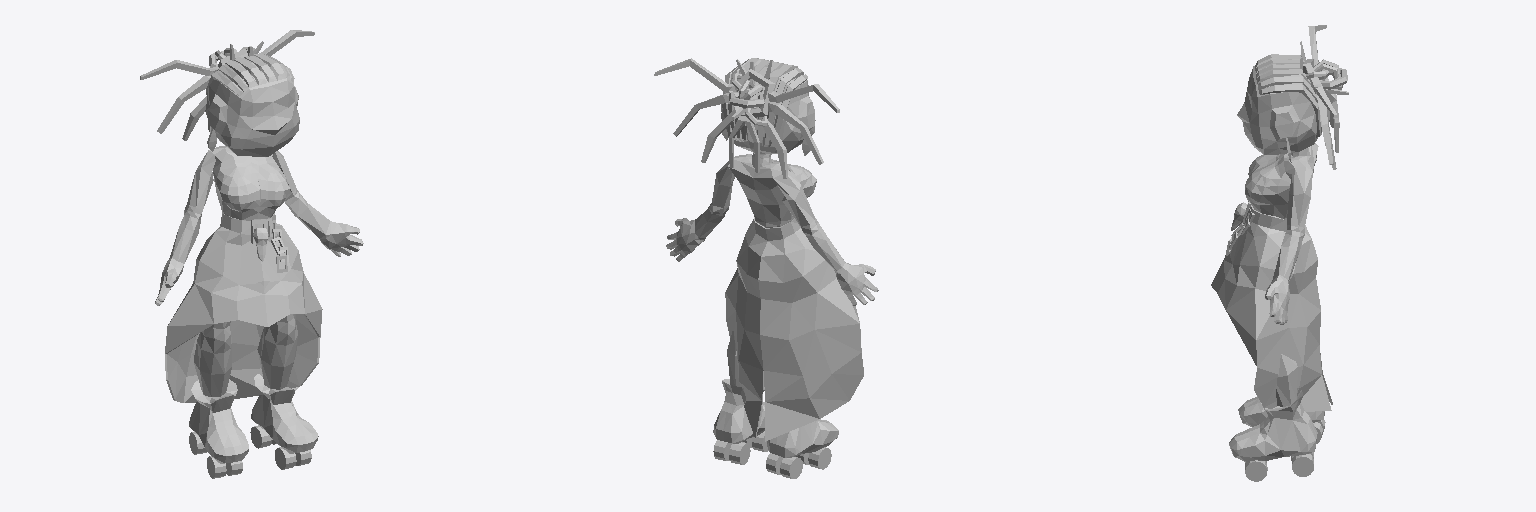
The model's file is bruja_000060.obj.
3 renders of one model, left to right at view 1: azimuth 30°, elevation 25°; view 2: azimuth 150°, elevation 25°; view 3: azimuth 270°, elevation 25°, orthographic.
Parts seen in each view (by area): view 1: Bruja_Plane.001; view 2: Bruja_Plane.001; view 3: Bruja_Plane.001.
Part boxes in pixels (left/top/right/bottom): Bruja_Plane.001: left=140, top=30, right=363, bottom=478; Bruja_Plane.001: left=654, top=58, right=878, bottom=478; Bruja_Plane.001: left=1211, top=25, right=1348, bottom=481.
Bounding box in the file's own units: 8.63 × 16.46 × 4.98.